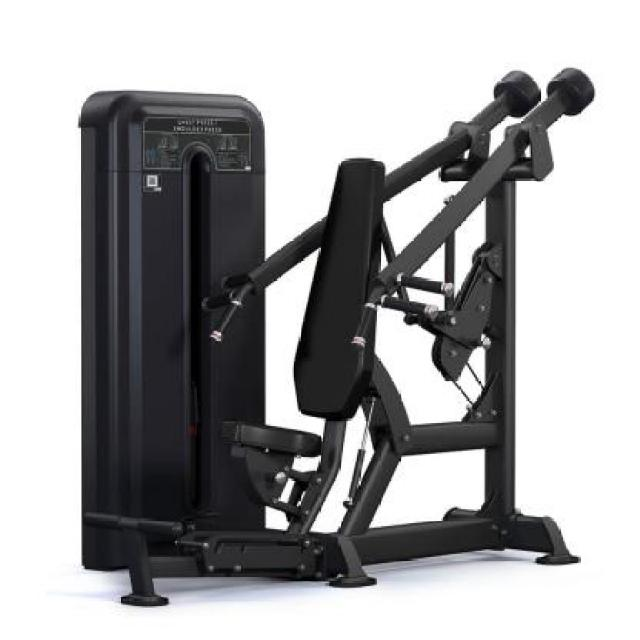shoulder press machine: (77, 63, 591, 609)
